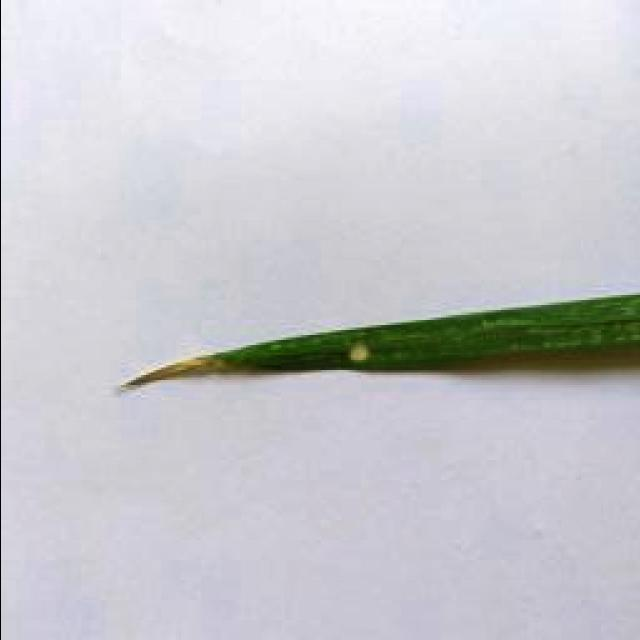Unhealthy: (120, 354, 274, 392), (348, 342, 370, 363)
